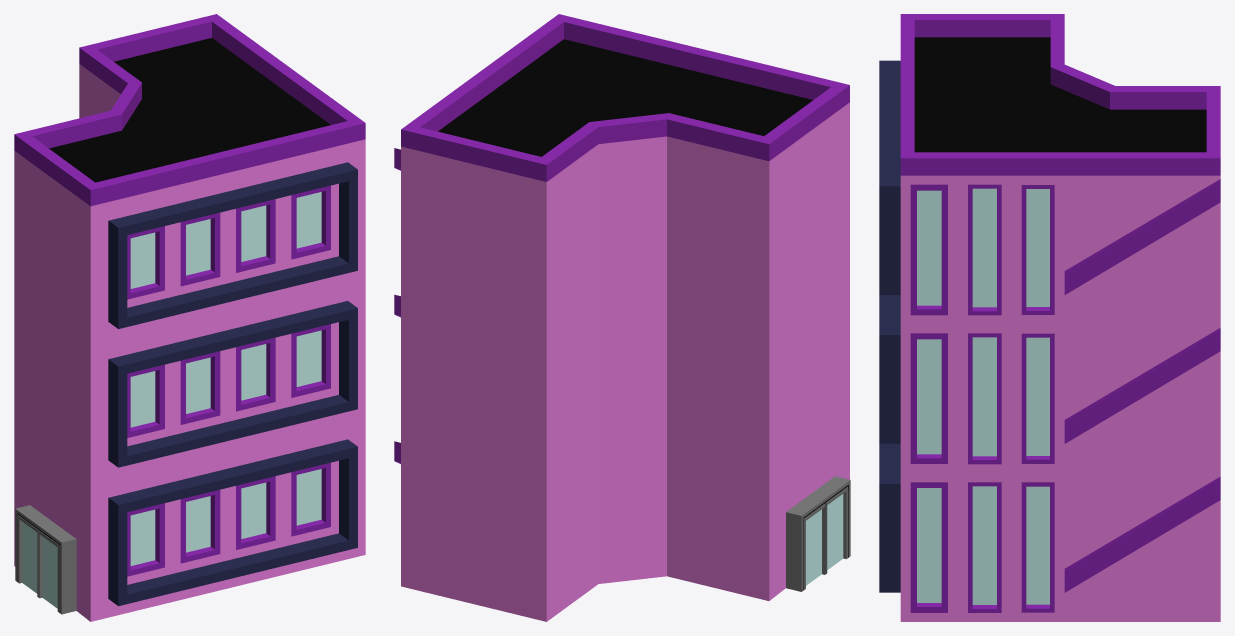
Rendered from BlockOfFlats0.fbx.
3 views of the same model, side by side, from view 1: azimuth 30°, elevation 25°; view 2: azimuth 150°, elevation 25°; view 3: azimuth 270°, elevation 25° (orthographic). The views are drawn at different scales.
Parts seen in each view (by area): view 1: BlockOfFlats0; view 2: BlockOfFlats0; view 3: BlockOfFlats0.
Part boxes in pixels (box(x1,y1,x2,y2)): BlockOfFlats0: box(14, 14, 365, 621); BlockOfFlats0: box(394, 14, 850, 621); BlockOfFlats0: box(879, 14, 1220, 621).
Bounding box in the file's own units: 4169 × 5802 × 3873.
